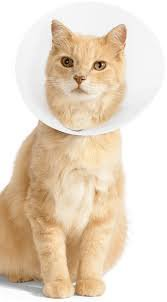cat: (17, 27, 143, 257)
